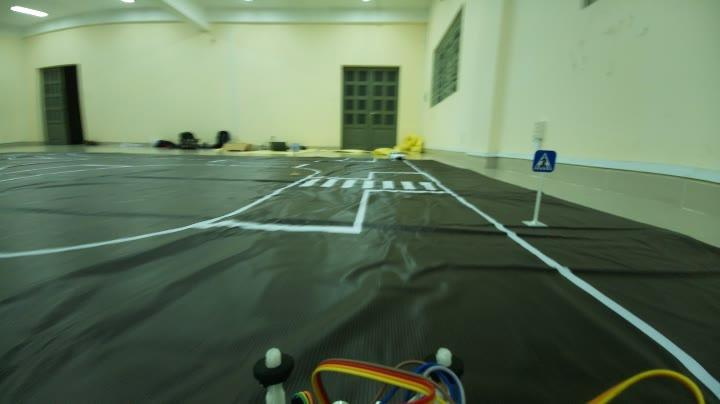crosswalk: (528, 143, 560, 178)
